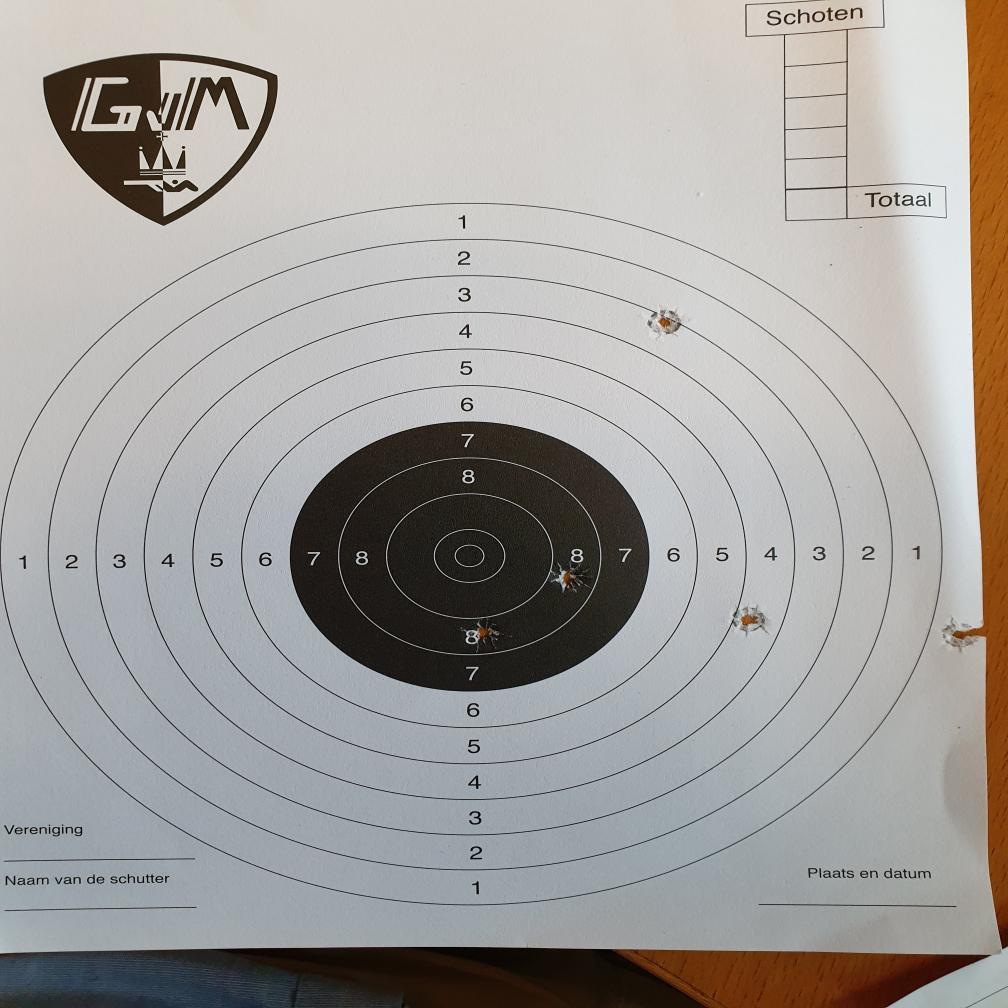0: (939, 619, 982, 655)
3: (643, 306, 689, 338)
5: (727, 602, 770, 638)
8: (546, 560, 595, 594), (461, 616, 502, 654)
Target: (0, 199, 947, 907)
black_contour: (289, 420, 651, 692)
